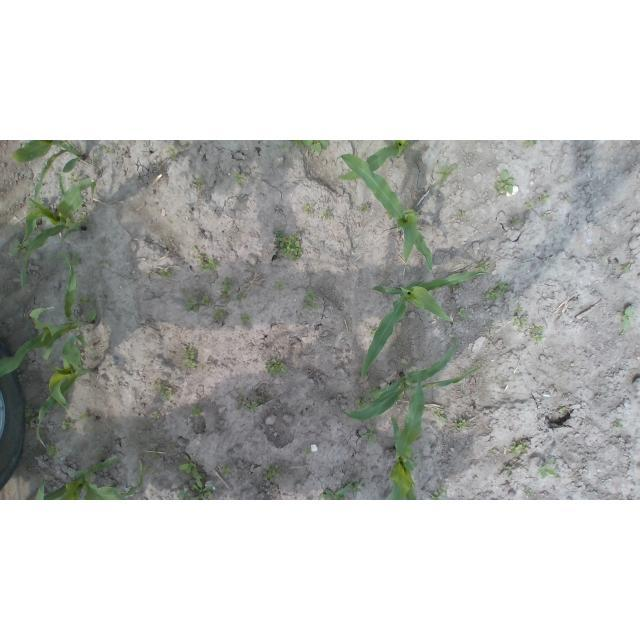Maize: (359, 268, 485, 376), (2, 255, 98, 377), (341, 337, 481, 419), (338, 151, 434, 270), (20, 173, 96, 294), (35, 351, 98, 450), (37, 456, 144, 501), (9, 141, 88, 200), (387, 375, 417, 500), (338, 142, 410, 181)
Weeds: (272, 231, 302, 259), (176, 453, 202, 479), (436, 162, 458, 190), (188, 477, 214, 500), (235, 391, 260, 414), (494, 169, 514, 196), (538, 457, 559, 479), (523, 193, 549, 210), (487, 281, 510, 299), (186, 292, 208, 310), (617, 306, 633, 330), (302, 140, 331, 152), (199, 251, 218, 269), (302, 289, 318, 309), (508, 439, 528, 455), (265, 359, 286, 374), (531, 324, 546, 345), (59, 251, 80, 266), (13, 238, 32, 254), (362, 425, 378, 444), (265, 462, 279, 483), (184, 348, 197, 370), (322, 489, 346, 500), (222, 279, 233, 302), (347, 482, 361, 499), (159, 385, 176, 399), (177, 484, 190, 501), (452, 417, 467, 431), (433, 408, 448, 421), (79, 296, 94, 309), (513, 316, 527, 329), (68, 172, 83, 184), (47, 441, 57, 458), (431, 488, 446, 499), (101, 146, 117, 155), (191, 404, 203, 416), (476, 259, 490, 269), (79, 411, 92, 421), (211, 310, 221, 322), (355, 397, 367, 407), (60, 419, 72, 429), (303, 203, 313, 214), (160, 269, 172, 278), (359, 204, 372, 212), (457, 308, 467, 318), (239, 314, 249, 323), (516, 303, 525, 313), (523, 488, 533, 497), (221, 466, 231, 475), (25, 409, 35, 418), (508, 216, 518, 224), (97, 454, 107, 462), (323, 209, 330, 219), (521, 141, 535, 146), (169, 148, 175, 159), (237, 174, 244, 183), (196, 179, 205, 186), (541, 212, 550, 219), (154, 412, 163, 419), (307, 446, 314, 454), (558, 407, 567, 413), (505, 465, 514, 471), (612, 421, 621, 427), (276, 283, 283, 290), (453, 286, 460, 293), (289, 140, 301, 144), (151, 450, 159, 456), (622, 263, 630, 269), (565, 195, 572, 201), (259, 397, 265, 403), (95, 157, 102, 162), (458, 210, 465, 215), (154, 379, 159, 385), (620, 331, 626, 335), (599, 256, 603, 261)
